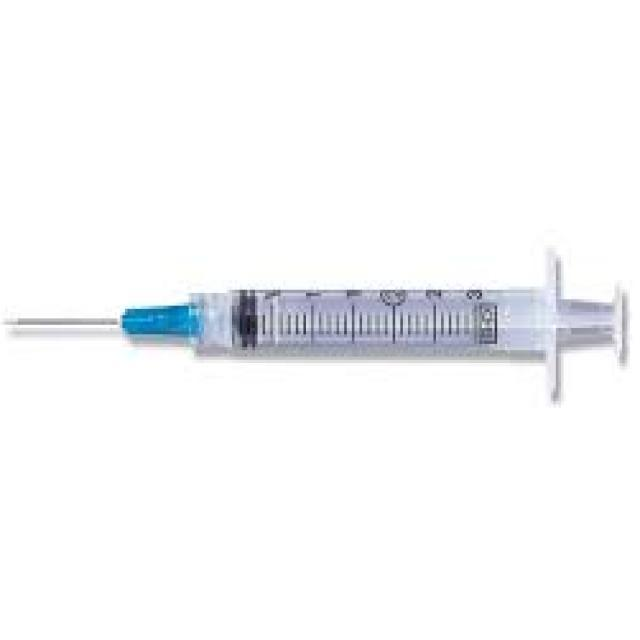syringe: (20, 237, 610, 424)
